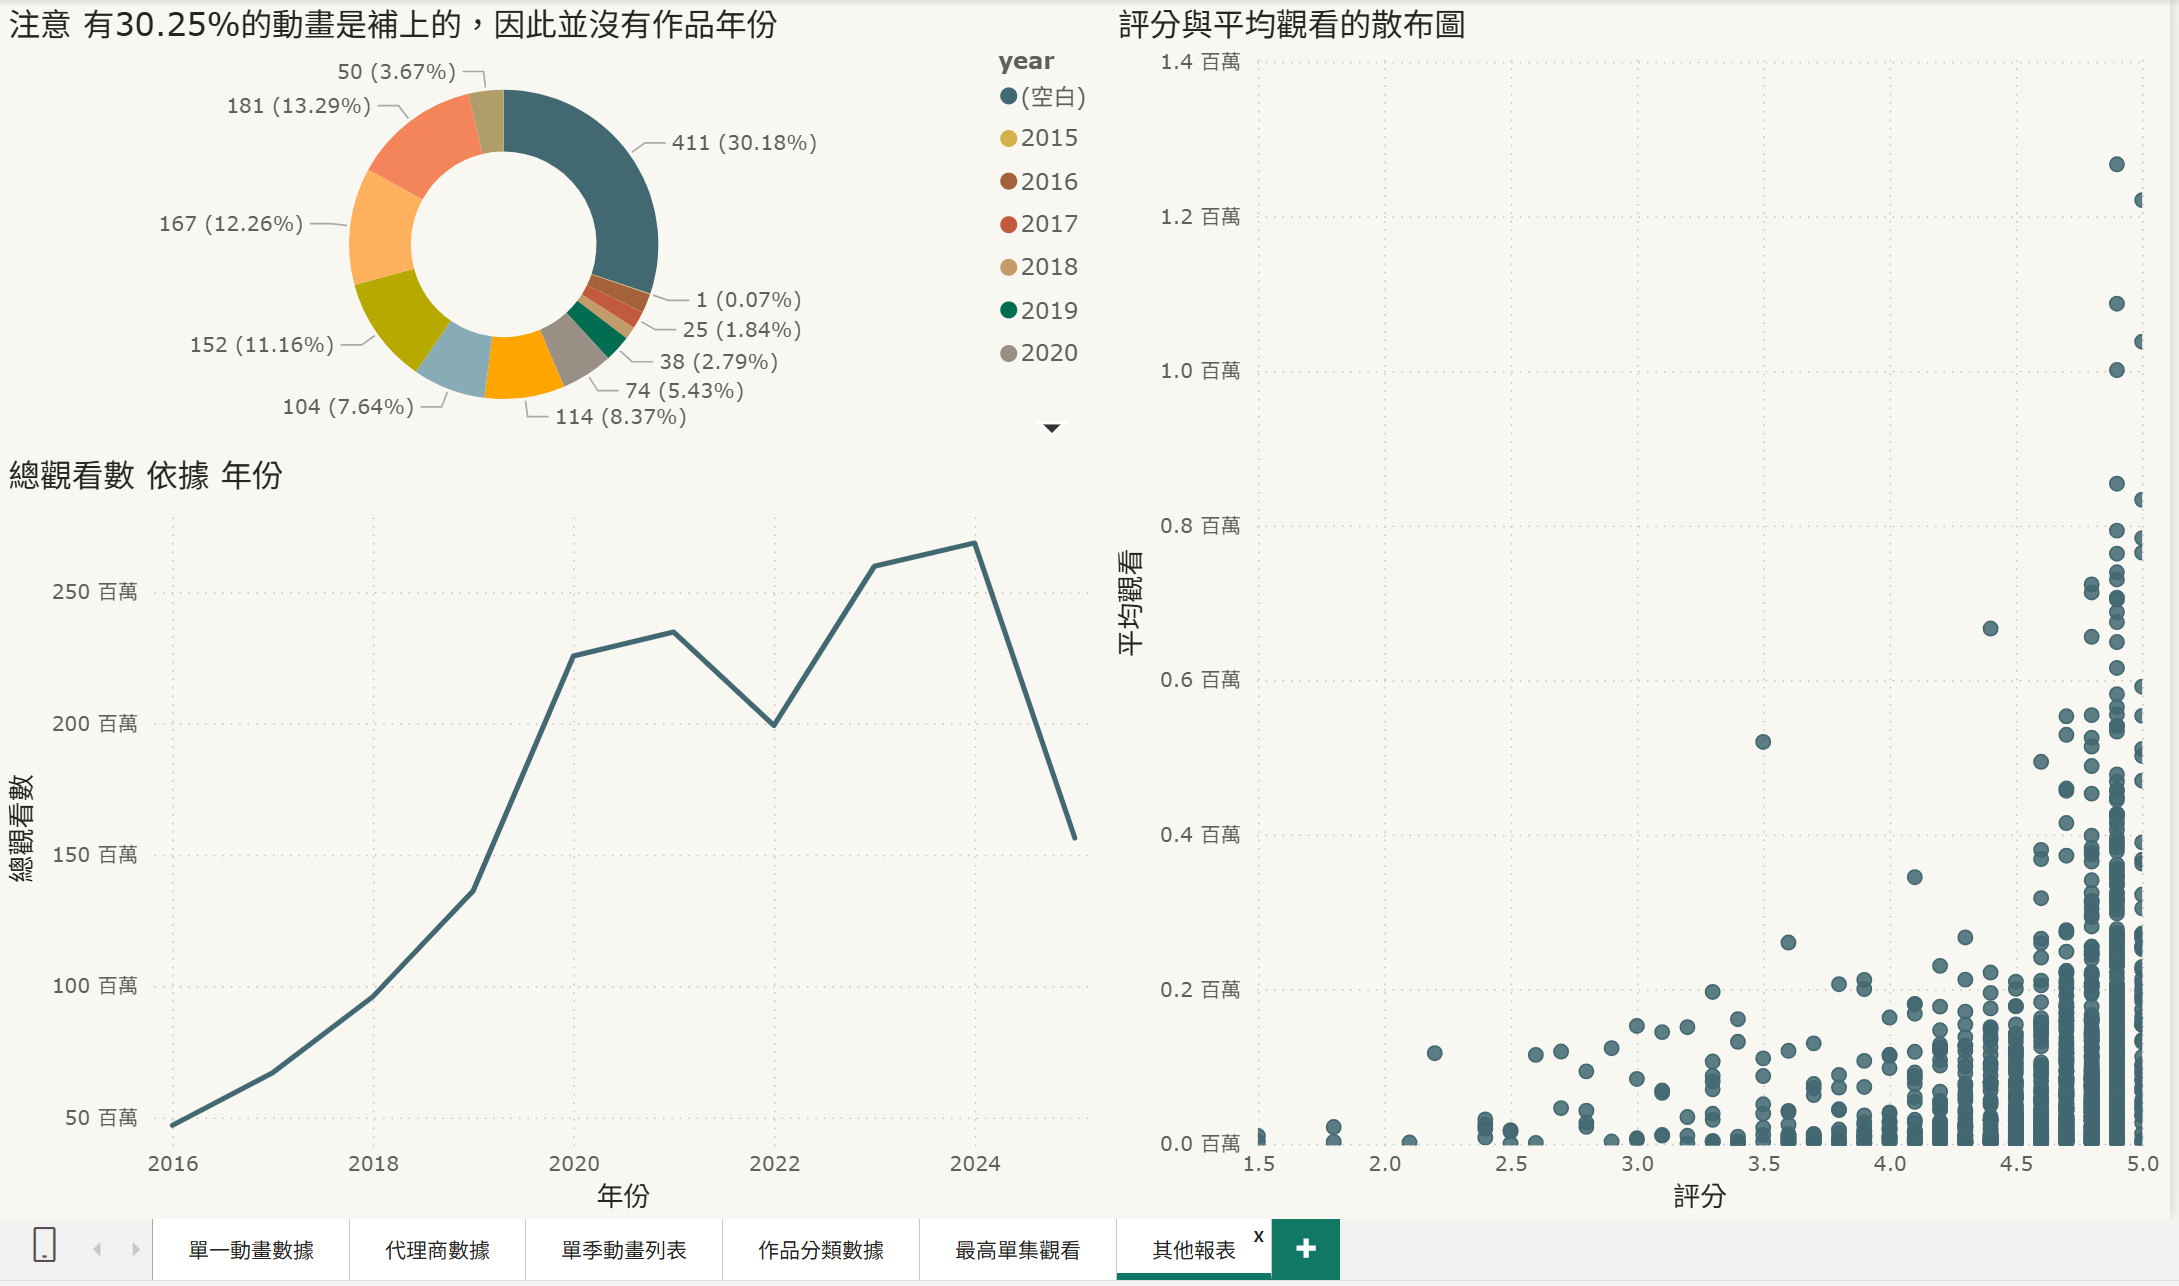

What the dashboard file says about the page in this screenshot:
{"tool":"powerbi","page":{"name":"其他報表","canvas":[1280,720],"ordinal":5},"visuals":[{"type":"scatterChart","title":"評分與平均觀看的散布圖","fields":{"Category":["public v_clean_tv_animelist.title"],"X":["Sum(public v_clean_tv_animelist.rating)"],"Y":["Sum(public v_clean_tv_animelist.mean_view_count)"]},"box":[655.1,0,624.2,720.7],"z":0},{"type":"lineChart","fields":{"Category":["public v_clean_tv_animelist.year","public v_clean_tv_animelist.season"],"Y":["Sum(public v_clean_tv_animelist.sum_view_count)"]},"box":[0,266.4,655.1,454.3],"z":1000},{"type":"donutChart","title":"注意 有30.25%的動畫是補上的，因此並沒有作品年份","fields":{"Category":["public v_clean_tv_animelist.year"],"Y":["Count(public v_clean_tv_animelist.title)"]},"box":[0,0,655.1,266.4],"z":2000}]}

Visuals, with their boxes on the page's 1280x720 design canvas (x1, y1, x2, y2). These are canvas units, not pixel positions in the 2179x1286 screenshot, which may show the page scaled, cropped or inside an application window:
"評分與平均觀看的散布圖" scatterChart: box(655, 0, 1279, 721)
lineChart - public v_clean_tv_animelist.year x public v_clean_tv_animelist.season: box(0, 266, 655, 721)
"注意 有30.25%的動畫是補上的，因此並沒有作品年份" donutChart: box(0, 0, 655, 266)
